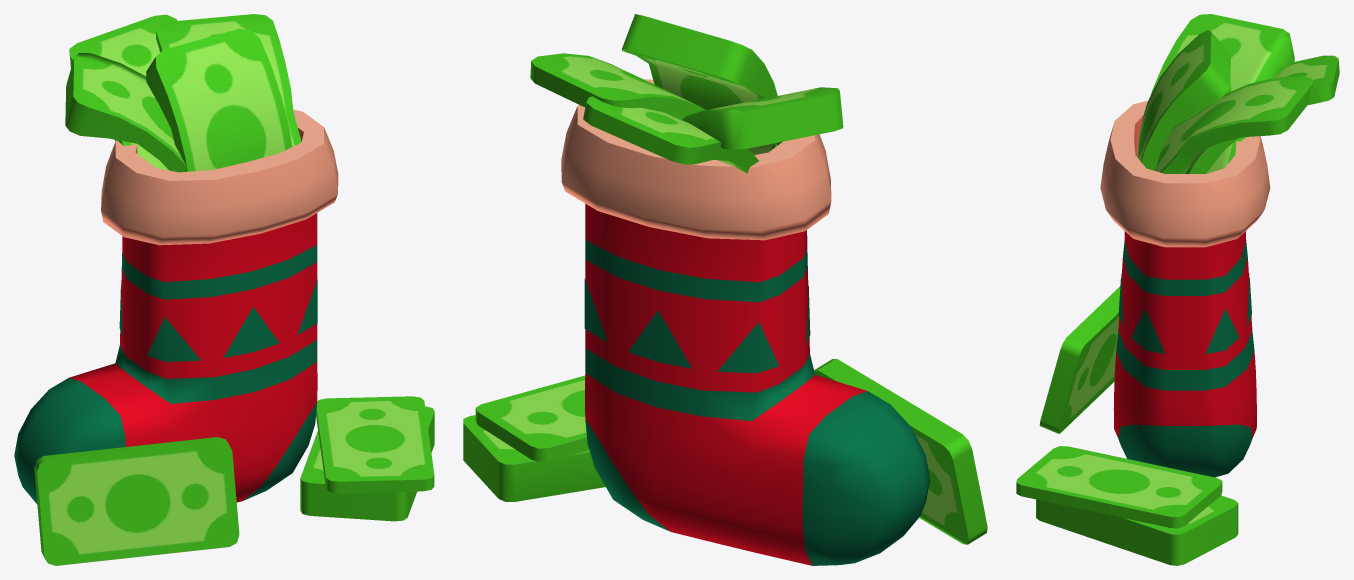
File: Money_Bag_Noel.fbx
The picture shows the model from 3 angles, left to right: view 1: azimuth 30°, elevation 25°; view 2: azimuth 150°, elevation 25°; view 3: azimuth 270°, elevation 25°; orthographic projection. The views are drawn at different scales.
Visible parts, largest first — view 1: Money_Bag_Noel, Moneybagnoel; view 2: Money_Bag_Noel, Moneybagnoel; view 3: Moneybagnoel, Money_Bag_Noel.
Boxes of the visible parts, left/top/right/bottom form: Money_Bag_Noel: left=14, top=109, right=338, bottom=504; Moneybagnoel: left=34, top=14, right=434, bottom=565; Money_Bag_Noel: left=561, top=79, right=930, bottom=565; Moneybagnoel: left=463, top=14, right=987, bottom=544; Moneybagnoel: left=1016, top=14, right=1339, bottom=565; Money_Bag_Noel: left=1100, top=100, right=1270, bottom=477.
Bounding box in the file's own units: 71.42 × 71.34 × 49.58.
